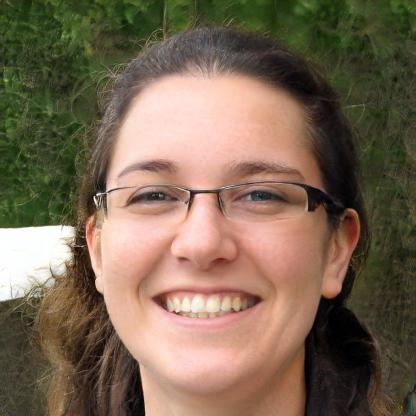glasses: (95, 176, 317, 236)
